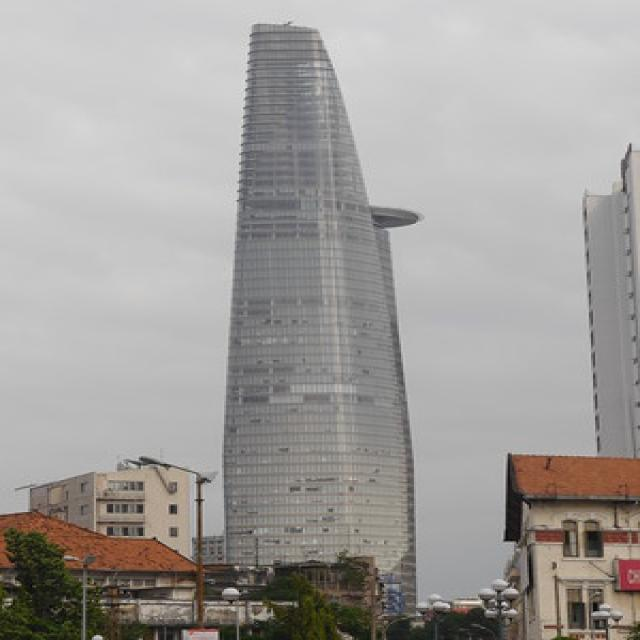building: (215, 18, 429, 611)
